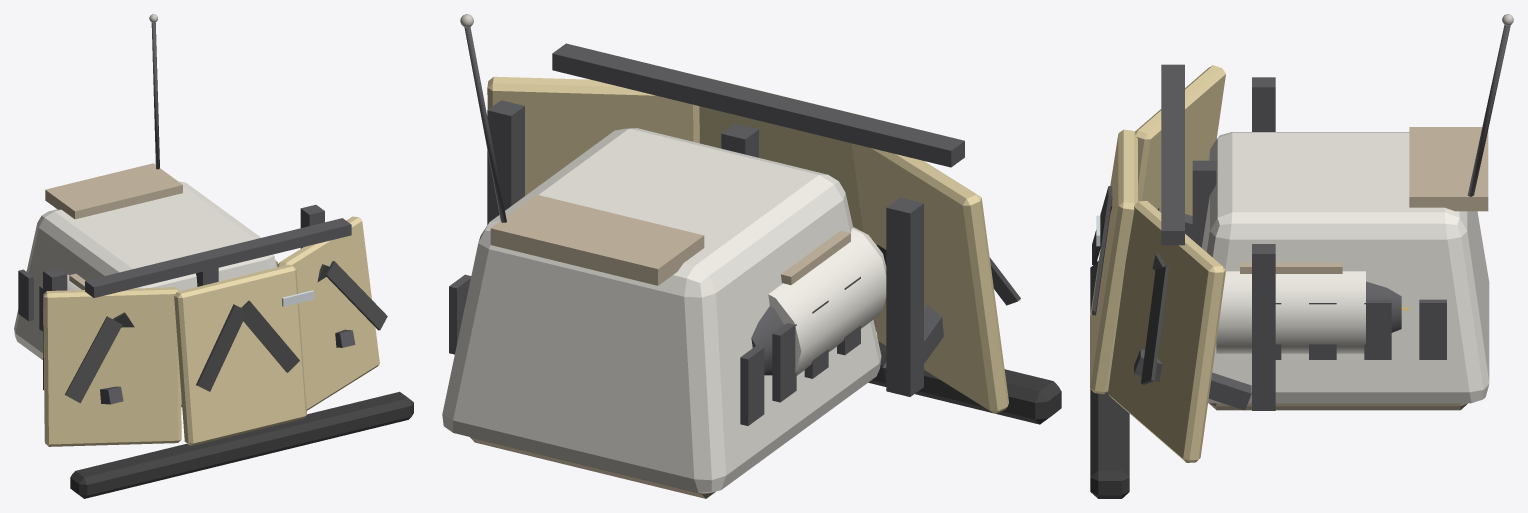
The model's file is herder.glb.
The picture shows the model from 3 angles, left to right: view 1: azimuth 30°, elevation 25°; view 2: azimuth 150°, elevation 25°; view 3: azimuth 270°, elevation 25°; orthographic projection. The views are drawn at different scales.
Visible parts, largest first — view 1: ring_plough, ring_plough.001, ring_enamel, ring_rubber, ring_plough.002, ring_graphite.009, ring_dust, ring_stencil.003, ring_stencil.005, ring_stencil.006, ring_stencil.008, ring_graphite.001 (+3 smaller); view 2: ring_enamel, ring_plough, ring_graphite.009, ring_plough.002, ring_dust, ring_enamel.002, ring_graphite.010, ring_plough.001, ring_rubber, ring_graphite.014, ring_graphite.001, ring_graphite.003 (+7 smaller); view 3: ring_enamel, ring_plough.002, ring_enamel.001, ring_plough.001, ring_dust, ring_plough, ring_graphite.009, ring_rubber, ring_graphite.014, ring_dust_dk, ring_graphite, ring_stencil.008 (+10 smaller).
Part boxes in pixels (x1,y1,x2,y2): ring_plough: [43, 287, 181, 446]; ring_plough.001: [174, 264, 306, 445]; ring_enamel: [14, 181, 276, 404]; ring_rubber: [70, 391, 413, 498]; ring_plough.002: [277, 216, 379, 410]; ring_graphite.009: [85, 218, 351, 297]; ring_dust: [45, 163, 182, 219]; ring_stencil.003: [65, 316, 122, 403]; ring_stencil.005: [196, 304, 243, 391]; ring_stencil.006: [241, 300, 299, 372]; ring_stencil.008: [325, 261, 387, 330]; ring_graphite.001: [18, 269, 33, 321]; ring_enamel: [442, 128, 881, 493]; ring_plough: [851, 143, 1008, 413]; ring_graphite.009: [552, 43, 964, 167]; ring_plough.002: [487, 76, 699, 195]; ring_dust: [490, 194, 704, 285]; ring_enamel.002: [768, 228, 886, 375]; ring_graphite.010: [886, 197, 923, 396]; ring_plough.001: [699, 76, 876, 332]; ring_rubber: [868, 341, 1061, 424]; ring_graphite.014: [487, 100, 524, 224]; ring_graphite.001: [740, 345, 764, 425]; ring_graphite.003: [772, 323, 796, 402]; ring_enamel: [1201, 132, 1489, 403]; ring_plough.002: [1108, 201, 1225, 462]; ring_enamel.001: [1216, 271, 1365, 353]; ring_plough.001: [1090, 129, 1137, 394]; ring_dust: [1409, 127, 1488, 211]; ring_plough: [1135, 65, 1225, 215]; ring_graphite.009: [1161, 64, 1184, 245]; ring_rubber: [1090, 260, 1129, 498]; ring_graphite.014: [1252, 244, 1275, 410]; ring_dust_dk: [1209, 403, 1467, 410]; ring_graphite: [1419, 299, 1446, 359]; ring_stencil.008: [1141, 266, 1169, 384].
Bounding box in the file's own units: 1.3 × 1.18 × 1.08.
